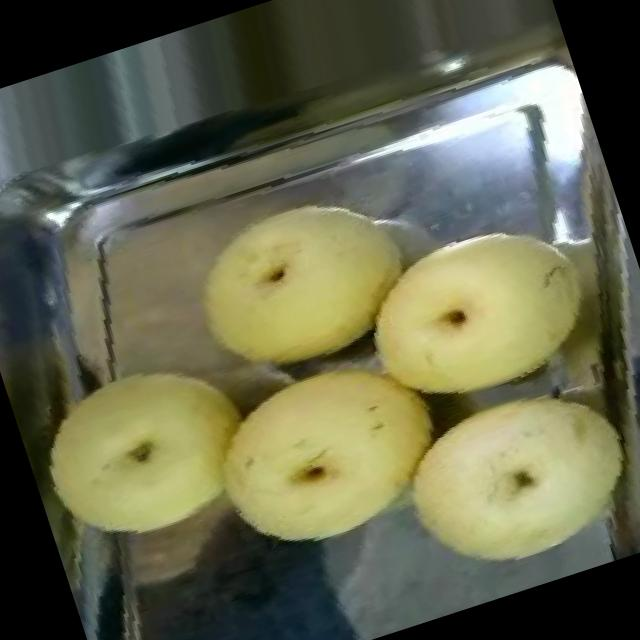Fruit: (96, 117, 447, 432), (325, 178, 632, 451), (175, 314, 483, 586), (7, 316, 296, 584), (366, 335, 640, 614)
